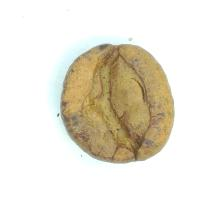NG: (76, 51, 152, 154)
